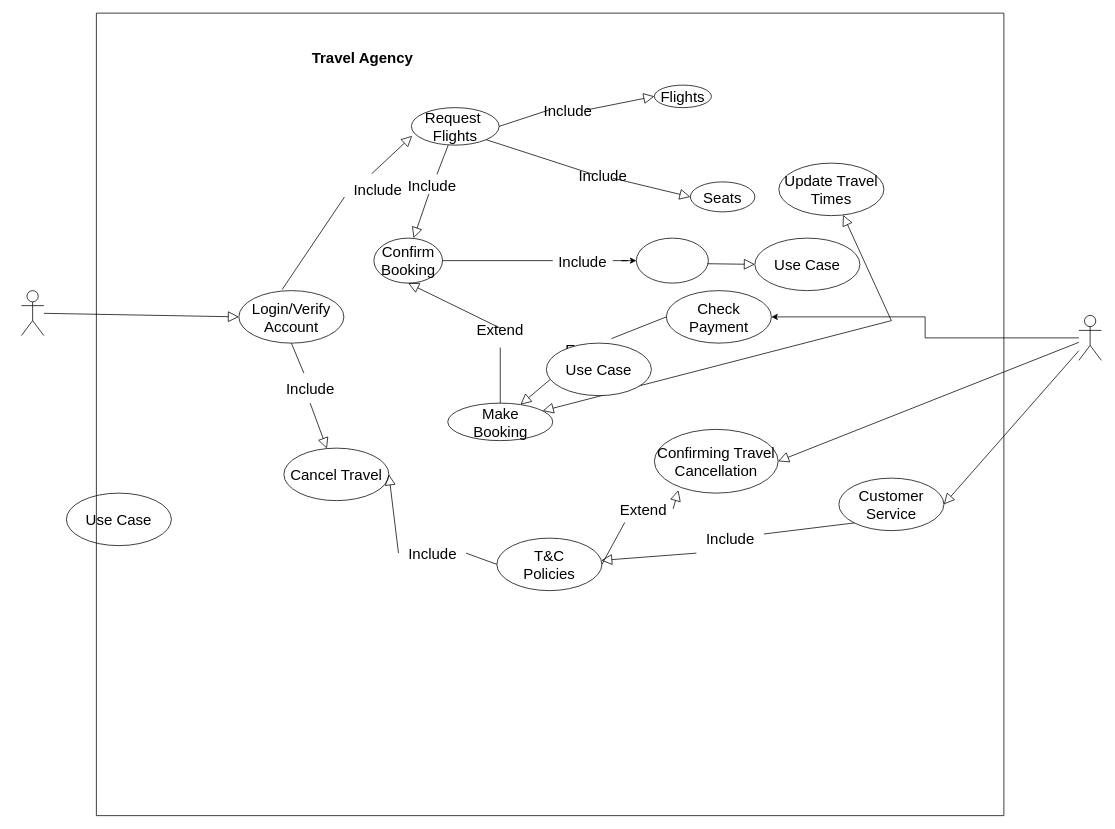
Image size: 1115x829. Some labels were removed from this diagram. The box of each missing label's shape, as (x1, y1, x2, y2) in pixels:
Customer: (21, 290, 44, 336)
Make Payment: (636, 237, 708, 283)
Staff: (1078, 315, 1101, 360)
